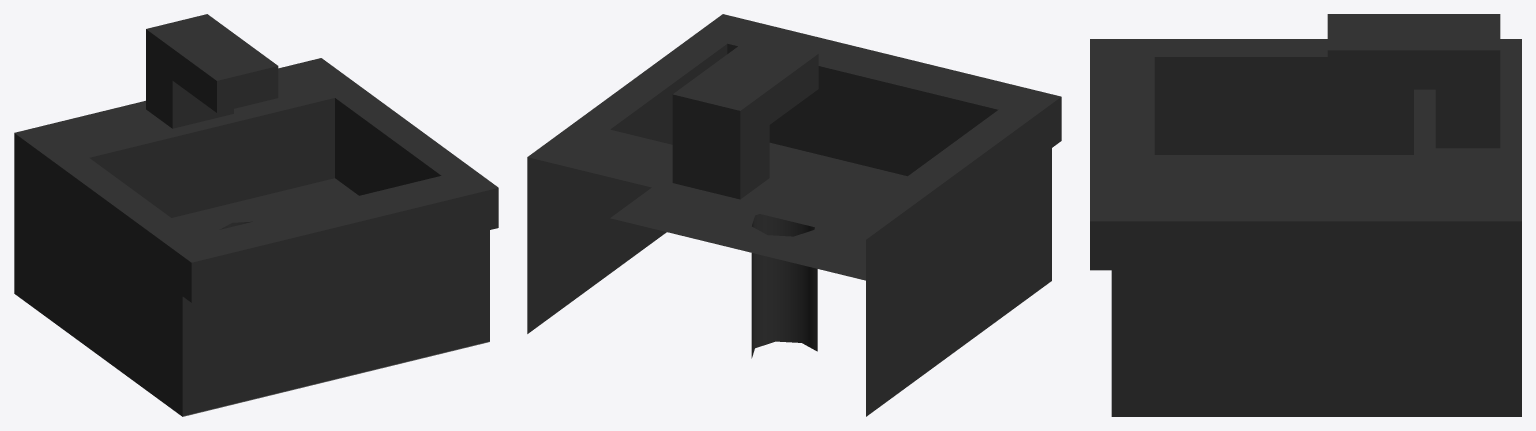
The model's file is sink.dae.
3 views of the same model, side by side, from view 1: azimuth 30°, elevation 25°; view 2: azimuth 150°, elevation 25°; view 3: azimuth 270°, elevation 25° (orthographic). The views are drawn at different scales.
Parts seen in each view (by area): view 1: Regroup04, Regroup10, Regroup01, Regroup07, Regroup02, Regroup09, Regroup06; view 2: Regroup07, Regroup01, Regroup10, Regroup09, Regroup06, Cylinder03; view 3: Regroup07, Regroup10, Regroup01, Regroup06, Regroup09.
Boxes of the visible parts, x1,y1,x2,y2 form: Regroup04: (182,230,489,416); Regroup10: (89,98,441,235); Regroup01: (14,58,498,262); Regroup07: (14,173,182,416); Regroup02: (191,188,498,302); Regroup09: (146,14,278,128); Regroup06: (14,133,191,302); Regroup07: (527,148,1051,416); Regroup01: (528,14,1060,239); Regroup10: (610,43,998,280); Regroup09: (672,37,818,199); Regroup06: (527,97,1061,283); Cylinder03: (751,214,817,358); Regroup07: (1111,270,1521,416); Regroup10: (1154,57,1413,202); Regroup01: (1090,39,1521,221); Regroup06: (1090,221,1521,270); Regroup09: (1327,14,1500,148).
Size of the model in its own units: 4 by 3.5 by 4.
